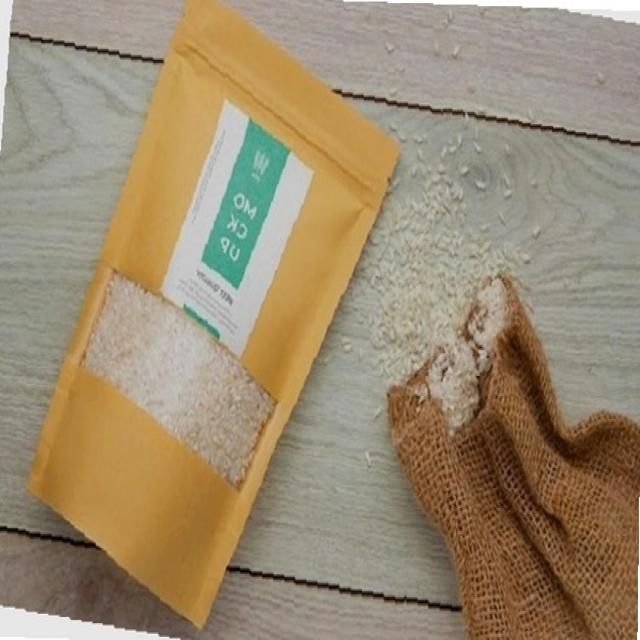rice package: (29, 0, 397, 626)
